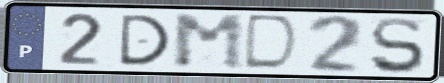2: (305, 13, 365, 75), (56, 11, 106, 67)
D: (240, 12, 303, 74), (116, 13, 173, 68)
M: (170, 13, 247, 71)
S: (368, 15, 428, 76)
